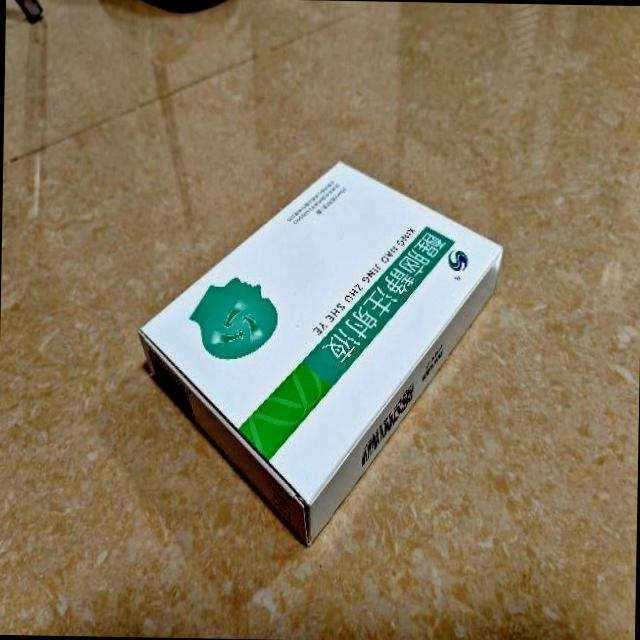box: (134, 158, 504, 548)
